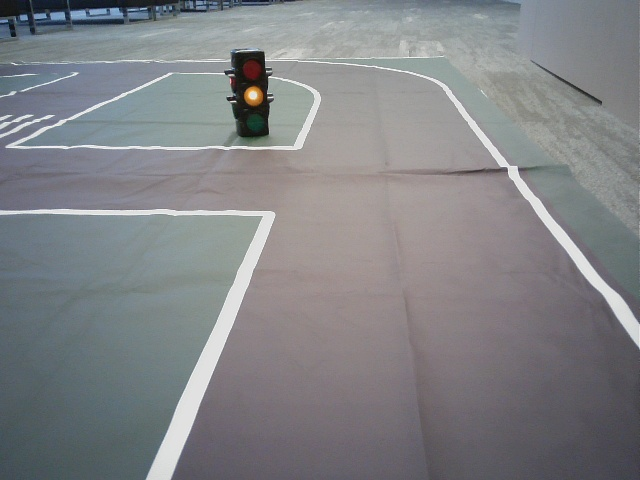yellow: (237, 53, 266, 135)
